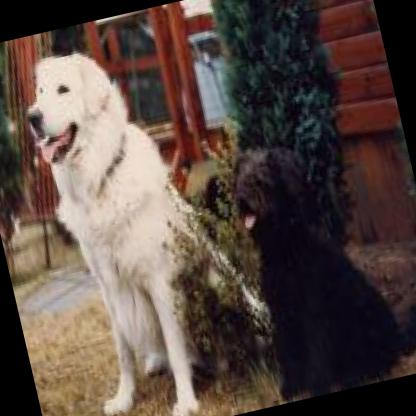kuvasz: (13, 18, 284, 416)
